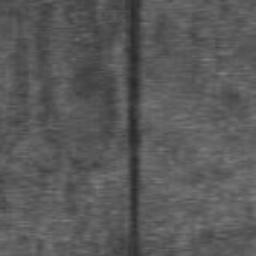Scratches: (123, 0, 151, 256)
